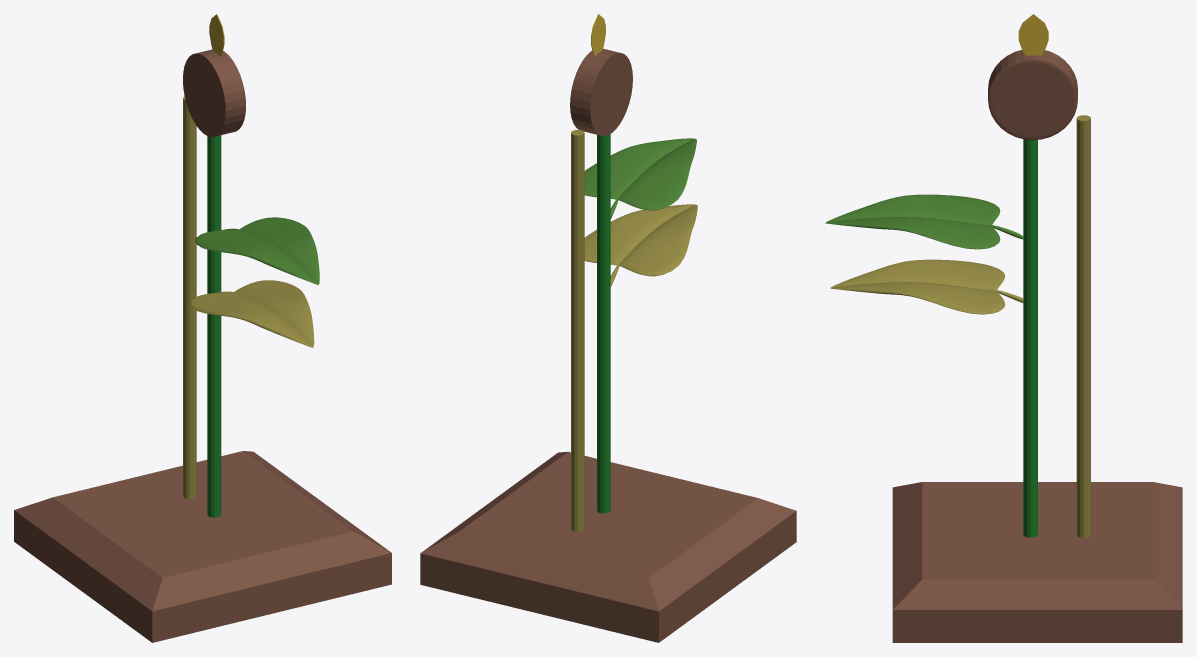
The model's file is snfl2.fbx.
3 renders of one model, left to right at view 1: azimuth 30°, elevation 25°; view 2: azimuth 150°, elevation 25°; view 3: azimuth 270°, elevation 25°, orthographic. The views are drawn at different scales.
Parts seen in each view (by area): view 1: Cube, Cylinder.002, Cylinder, Cube.002, Cube.001, Cylinder.001; view 2: Cube, Cylinder.002, Cube.002, Cube.001, Cylinder, Cylinder.001; view 3: Cube, Cylinder.001, Cylinder.002, Cube.002, Cube.001, Cylinder, Plane.
Part boxes in pixels (x1,y1,x2,y2): Cube: (14,451,391,642); Cylinder.002: (183,96,196,498); Cylinder: (207,135,221,517); Cube.002: (195,217,319,284); Cube.001: (189,280,314,347); Cylinder.001: (183,49,245,137); Cube: (420,451,796,642); Cylinder.002: (571,130,584,531); Cube.002: (584,138,696,218); Cube.001: (584,204,697,286); Cylinder: (597,134,610,513); Cylinder.001: (570,48,632,136); Cube: (892,482,1182,642); Cylinder.001: (988,50,1077,140); Cylinder.002: (1076,115,1090,538); Cube.002: (825,194,1024,249); Cube.001: (830,259,1023,314); Cylinder: (1023,139,1037,537); Plane: (1018,14,1048,55).
Size of the model in its own units: 200 by 441 by 247.
